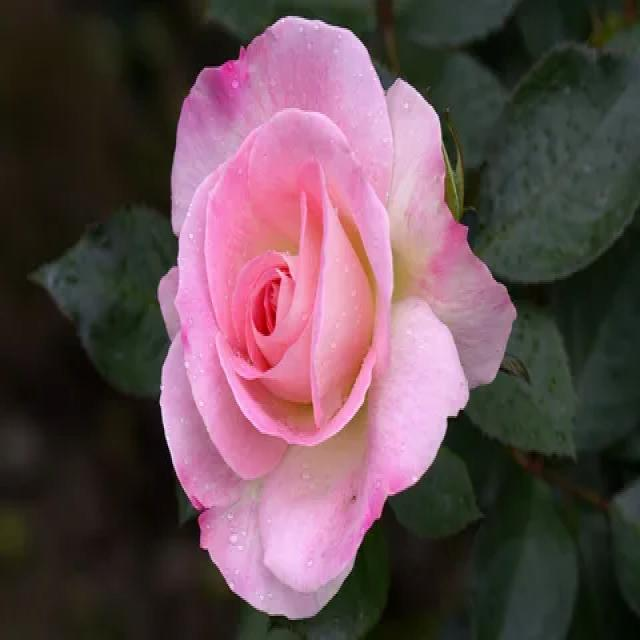rose: (156, 0, 514, 624)
